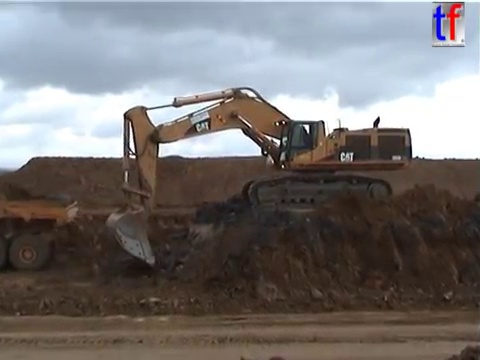excavator: (101, 84, 414, 272)
truck: (1, 198, 80, 273)
